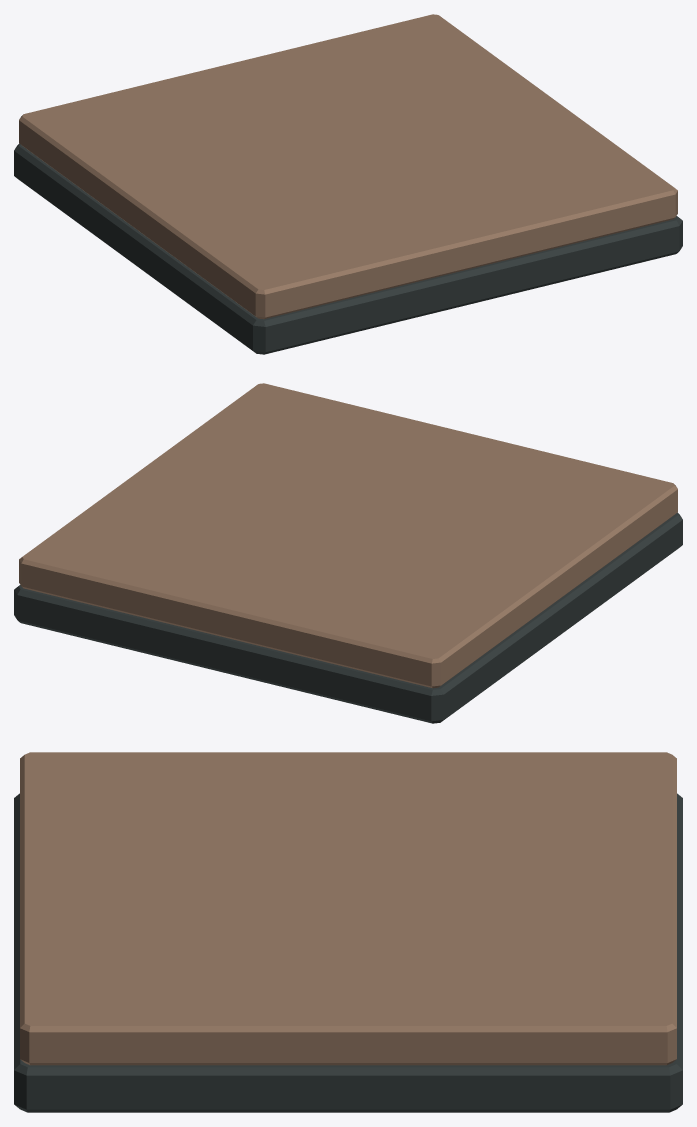
The model's file is floor-small.glb.
3 renders of one model, top to bottom at view 1: azimuth 30°, elevation 25°; view 2: azimuth 150°, elevation 25°; view 3: azimuth 270°, elevation 25°, orthographic. The views are drawn at different scales.
Parts seen in each view (by area): view 1: floor-small__body; view 2: floor-small__body; view 3: floor-small__body.
Part boxes in pixels (x1=…): floor-small__body: x1=14, y1=14, x2=682, y2=354; floor-small__body: x1=14, y1=383, x2=682, y2=723; floor-small__body: x1=14, y1=752, x2=682, y2=1112.
Bounding box in the file's own units: 1 × 0.14 × 1.
